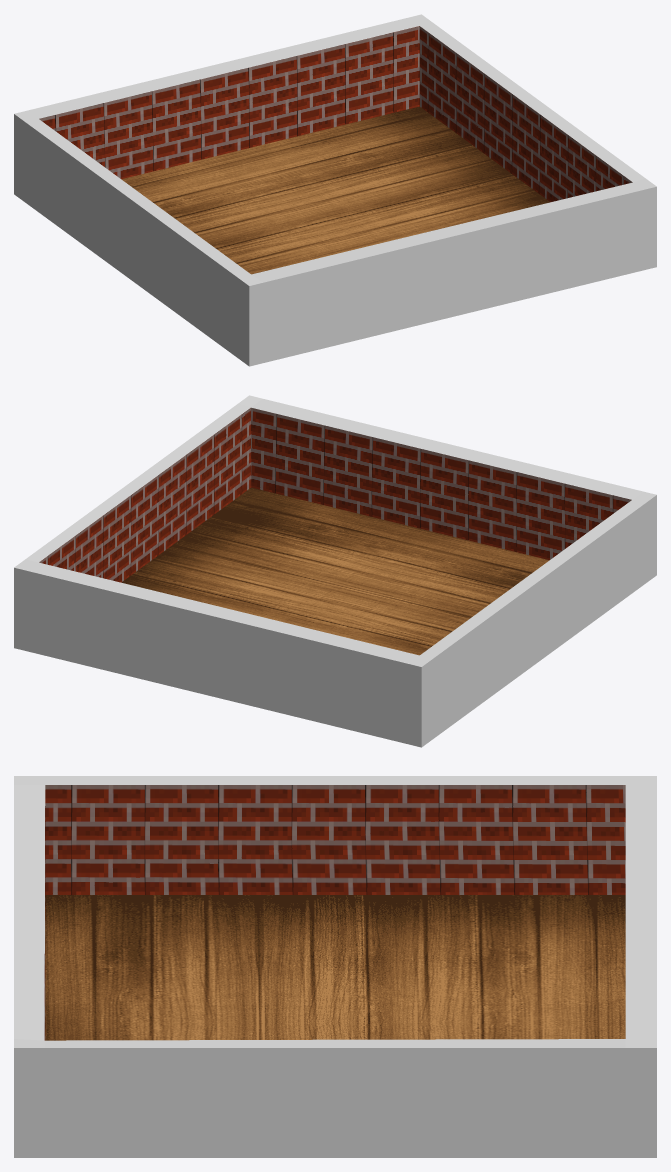
Rendered from cenario.gltf.
The picture shows the model from 3 angles, top to bottom: view 1: azimuth 30°, elevation 25°; view 2: azimuth 150°, elevation 25°; view 3: azimuth 270°, elevation 25°; orthographic projection. The views are drawn at different scales.
Parts seen in each view (by area): view 1: paredes; view 2: paredes; view 3: paredes.
Part boxes in pixels (box(x1,y1,x2,y2)): paredes: box(14, 14, 656, 366); paredes: box(14, 395, 656, 747); paredes: box(14, 776, 656, 1157).
Bounding box in the file's own units: 26.5 × 5.1 × 26.5.
4 materials, 2 textured.
